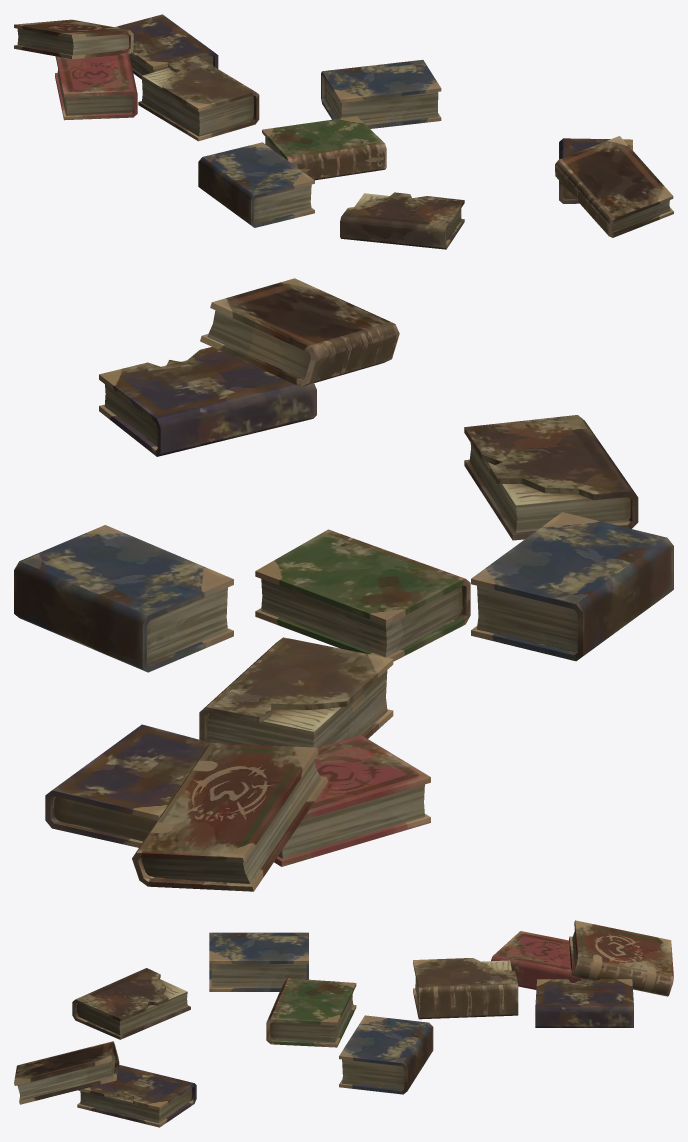
3 renders of one model, top to bottom at view 1: azimuth 30°, elevation 25°; view 2: azimuth 150°, elevation 25°; view 3: azimuth 270°, elevation 25°, orthographic. The views are drawn at different scales.
Visible parts, largest first — view 1: SM_DR_BookStack_07_LOD0; view 2: SM_DR_BookStack_07_LOD0; view 3: SM_DR_BookStack_07_LOD0.
Boxes of the visible parts, x1=… form: SM_DR_BookStack_07_LOD0: x1=14, y1=14, x2=673, y2=249; SM_DR_BookStack_07_LOD0: x1=14, y1=278, x2=673, y2=891; SM_DR_BookStack_07_LOD0: x1=14, y1=920, x2=673, y2=1127.
Bounding box in the file's own units: 1.6 × 0.24 × 2.53.
Materials: 1 (1 with a texture image).
